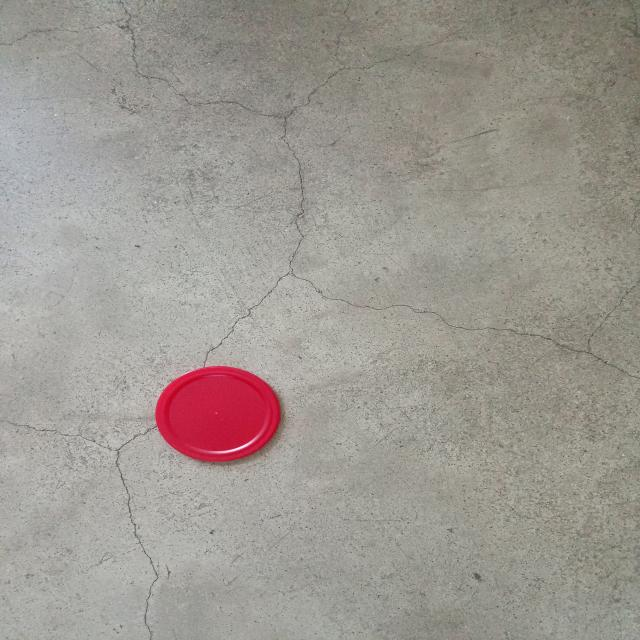chip: (154, 362, 284, 463)
